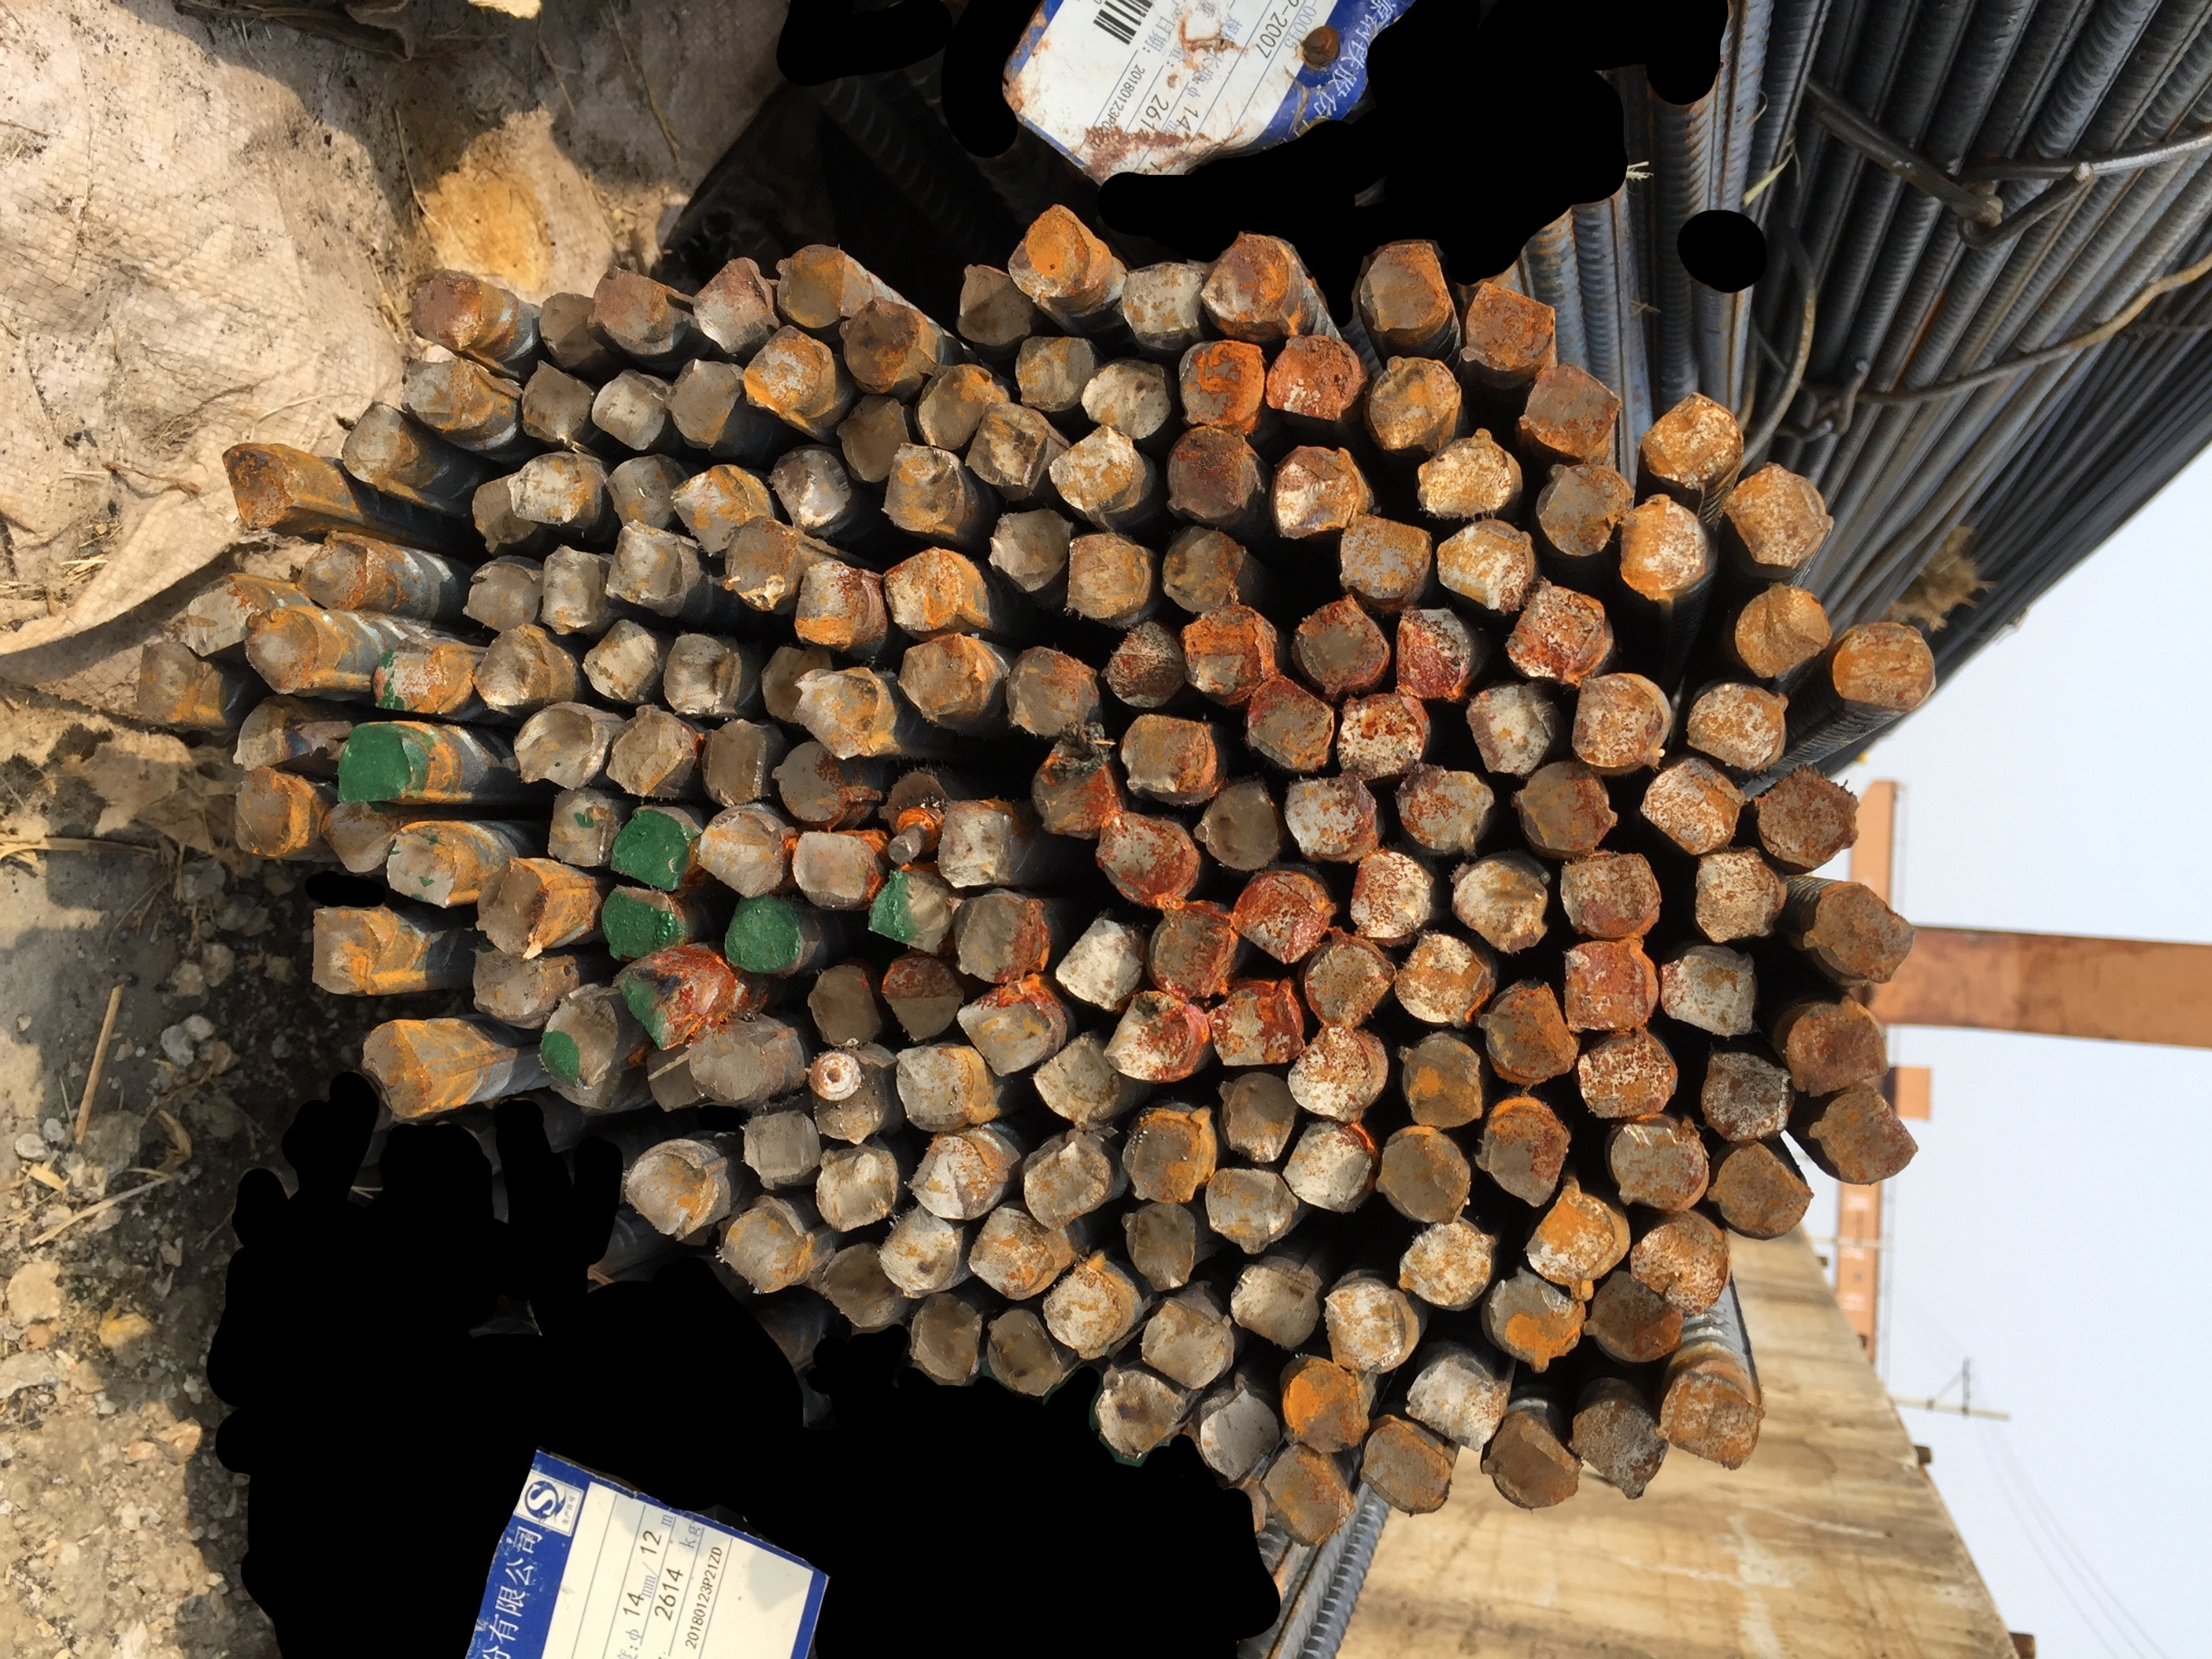rebar: (1797, 875, 1917, 988), (1752, 758, 1867, 873), (1522, 1178, 1633, 1297), (1497, 573, 1618, 681), (1720, 457, 1834, 570), (1652, 1364, 1769, 1471), (1089, 805, 1203, 911), (1780, 993, 1896, 1096), (1614, 490, 1713, 610), (1706, 1136, 1816, 1244), (1639, 380, 1745, 491), (1806, 1087, 1924, 1185), (1482, 1265, 1590, 1371), (1517, 361, 1628, 464), (1255, 1441, 1360, 1549), (1283, 1016, 1384, 1127), (1504, 760, 1621, 856), (1391, 927, 1496, 1033), (1640, 755, 1747, 859), (1607, 1110, 1710, 1218), (1578, 1267, 1691, 1364), (1550, 847, 1668, 939), (1445, 852, 1550, 957), (1476, 1408, 1583, 1511), (1527, 457, 1635, 558), (1028, 721, 1119, 842), (1475, 1098, 1572, 1209), (1400, 1351, 1504, 1453), (1567, 1399, 1670, 1504), (1478, 981, 1581, 1086), (1731, 575, 1834, 680), (955, 972, 1055, 1080), (1227, 866, 1335, 965), (1410, 425, 1522, 521), (1686, 673, 1792, 772), (1832, 612, 1938, 711), (1391, 1023, 1485, 1134), (1356, 1417, 1459, 1518), (1628, 1218, 1731, 1319), (1236, 671, 1337, 774), (1555, 936, 1659, 1035), (1389, 760, 1499, 854), (1293, 589, 1388, 699), (1001, 643, 1103, 742), (1265, 322, 1365, 425), (1363, 350, 1461, 455), (1572, 1030, 1682, 1122), (1459, 275, 1558, 376), (1049, 415, 1147, 518), (1374, 1127, 1478, 1223), (1689, 842, 1785, 946), (1316, 1279, 1422, 1373), (1177, 605, 1276, 704), (953, 889, 1055, 986), (1433, 518, 1534, 615), (1461, 678, 1558, 779), (1569, 671, 1666, 772), (1224, 1256, 1327, 1352), (1119, 706, 1222, 802), (1199, 225, 1295, 328), (1164, 418, 1260, 521), (1004, 197, 1098, 301), (1330, 509, 1435, 603), (837, 291, 929, 397), (1021, 1126, 1114, 1232), (587, 260, 683, 361), (1299, 934, 1400, 1030), (1698, 1044, 1794, 1145), (1340, 843, 1436, 945), (533, 985, 622, 1093), (1354, 239, 1452, 336), (1335, 685, 1431, 784), (737, 322, 831, 423), (1053, 911, 1145, 1014), (1281, 1114, 1374, 1216), (1145, 899, 1238, 1002), (1656, 946, 1759, 1039), (1203, 978, 1309, 1066), (605, 519, 702, 615), (1150, 519, 1248, 615), (967, 1202, 1062, 1302), (1201, 1164, 1300, 1258), (1093, 1363, 1185, 1464), (1100, 990, 1201, 1082), (1279, 770, 1381, 863), (1267, 444, 1363, 540), (690, 807, 788, 901), (1278, 1359, 1372, 1457), (715, 1204, 814, 1297), (1137, 1293, 1229, 1392), (879, 538, 969, 640), (690, 254, 779, 357), (1391, 1222, 1494, 1310), (619, 1148, 715, 1243), (788, 664, 882, 760), (1028, 1028, 1123, 1124), (1060, 532, 1156, 626), (622, 951, 715, 1049), (903, 1126, 995, 1223), (1189, 777, 1286, 870), (863, 864, 960, 955), (1177, 331, 1267, 429), (504, 702, 603, 791), (603, 702, 692, 802), (1077, 352, 1177, 441), (1039, 1260, 1126, 1361), (830, 385, 915, 488), (357, 1019, 439, 1126), (788, 823, 882, 915), (464, 622, 560, 713), (875, 439, 966, 535), (666, 464, 755, 561), (875, 1199, 962, 1298), (786, 554, 872, 655), (1388, 601, 1469, 706), (981, 504, 1074, 596), (762, 443, 856, 533), (880, 948, 967, 1046), (1196, 1387, 1283, 1485), (959, 401, 1049, 493), (816, 1237, 903, 1333), (889, 1039, 976, 1134), (661, 354, 746, 451), (805, 1047, 889, 1147), (716, 514, 798, 615), (809, 1141, 901, 1230), (605, 802, 692, 896), (1121, 1110, 1206, 1206), (980, 1302, 1063, 1399), (934, 791, 1014, 892), (915, 359, 1006, 448), (472, 852, 549, 957), (872, 765, 955, 861), (661, 626, 743, 723), (715, 890, 805, 978), (892, 633, 980, 723), (1213, 1070, 1299, 1162), (1103, 620, 1189, 713), (586, 364, 671, 453), (1119, 1195, 1198, 1291), (952, 261, 1037, 349), (335, 399, 418, 488), (683, 1021, 774, 1103), (241, 605, 322, 695), (214, 437, 293, 532), (305, 904, 385, 995), (757, 640, 837, 730), (770, 735, 851, 826), (804, 958, 884, 1049), (1116, 260, 1206, 340), (772, 237, 849, 331), (737, 1105, 823, 1188), (333, 725, 420, 807), (1011, 333, 1098, 415), (516, 356, 594, 446), (577, 613, 655, 704), (694, 714, 770, 807), (910, 1291, 985, 1385), (598, 448, 680, 533), (502, 450, 591, 528), (225, 765, 298, 859), (537, 542, 610, 636), (397, 350, 478, 436), (406, 263, 485, 350), (178, 573, 256, 659), (228, 702, 321, 774), (368, 636, 451, 714), (457, 556, 540, 634), (600, 878, 675, 965), (382, 828, 457, 913), (465, 946, 546, 1025), (296, 528, 373, 610), (542, 782, 610, 873), (319, 795, 394, 877), (535, 288, 607, 371), (465, 476, 540, 554), (134, 638, 199, 727), (643, 1039, 704, 1117), (547, 1068, 628, 1117), (788, 1225, 844, 1291)
